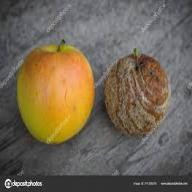apple: (16, 48, 94, 137), (102, 52, 173, 141)
